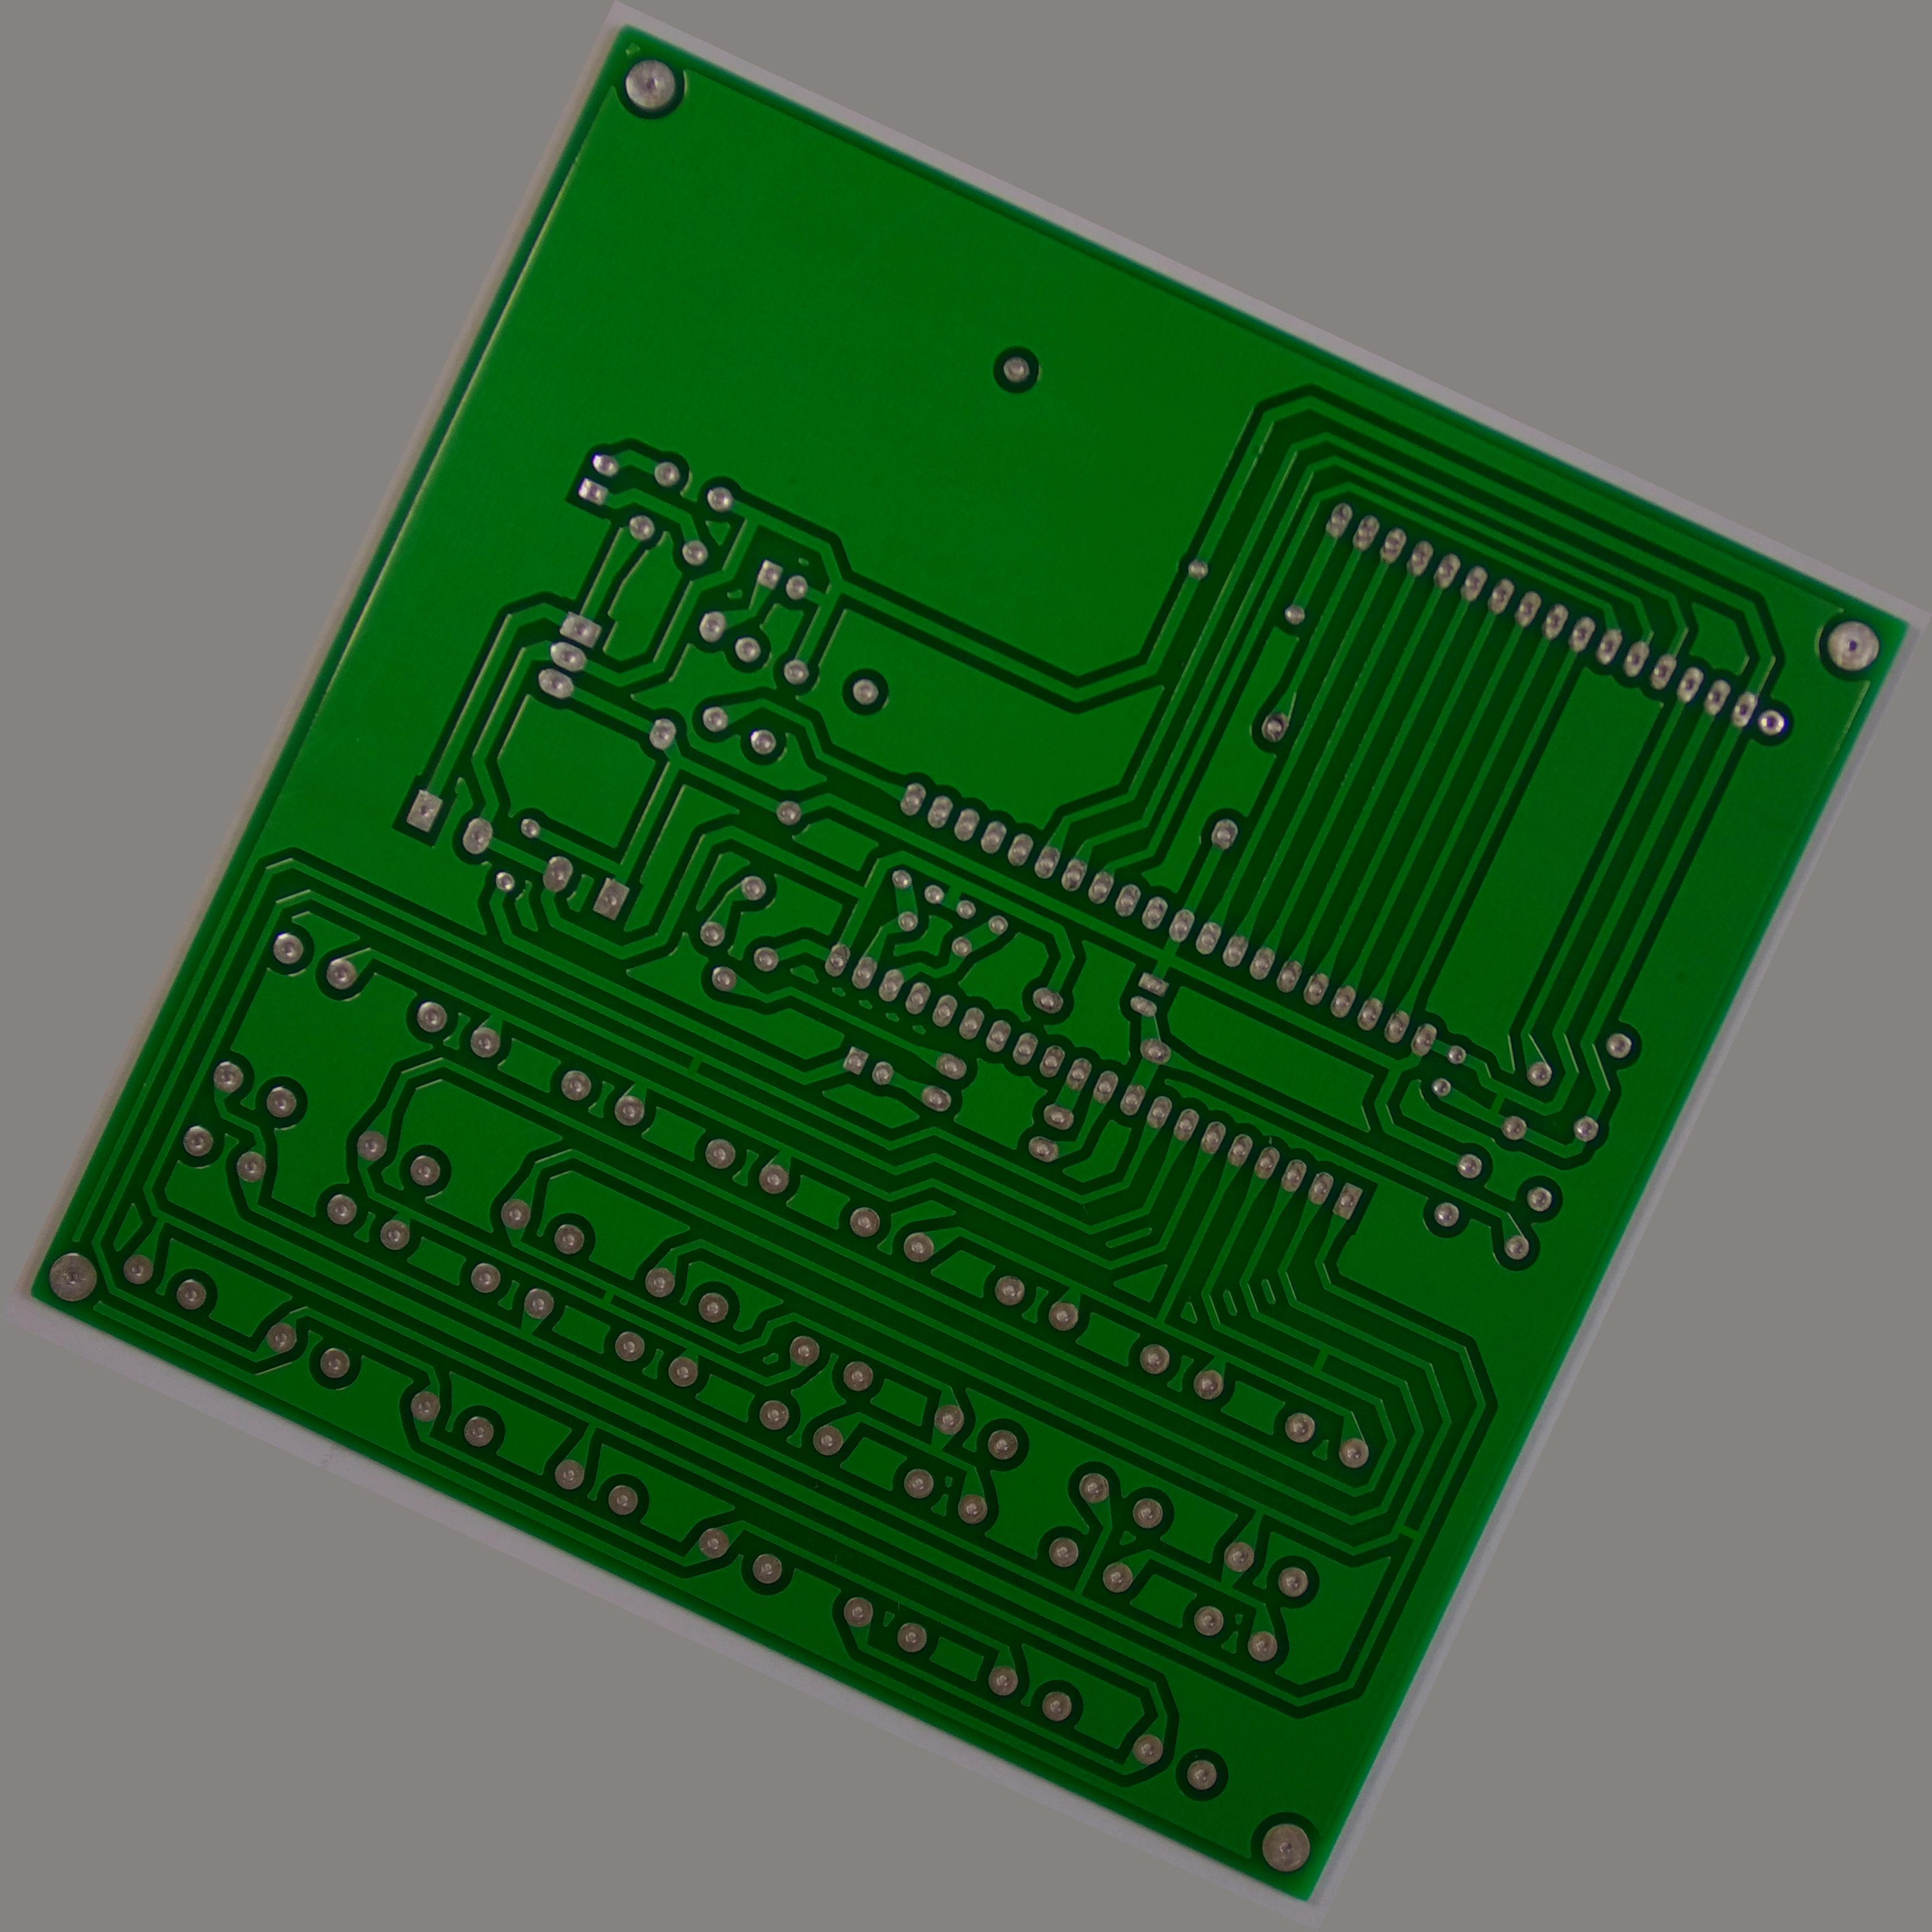short: (1468, 1069, 1523, 1129), (1292, 1332, 1343, 1389), (586, 1274, 626, 1322), (1385, 1509, 1431, 1548), (676, 1042, 717, 1083)
